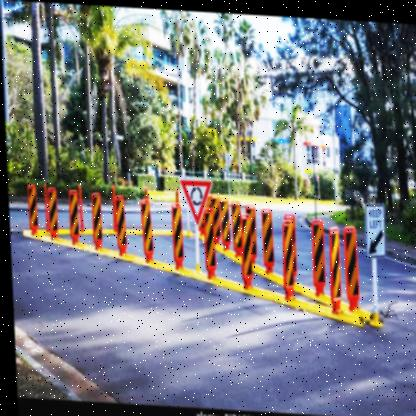Keep left: (360, 193, 388, 260)
